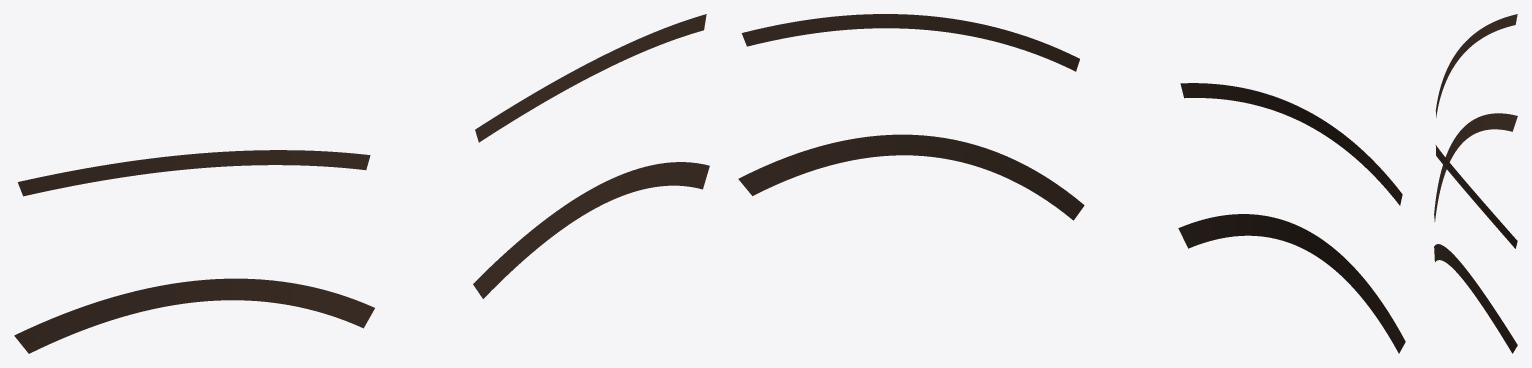
3 views of the same model, side by side, from view 1: azimuth 30°, elevation 25°; view 2: azimuth 150°, elevation 25°; view 3: azimuth 270°, elevation 25° (orthographic). The views are drawn at different scales.
Parts seen in each view (by area): view 1: Eye_Closed_-1, Eyebrow_-1, Eye_Closed_1, Eyebrow_1; view 2: Eye_Closed_1, Eyebrow_1, Eye_Closed_-1, Eyebrow_-1; view 3: Eye_Closed_1, Eye_Closed_-1, Eyebrow_-1, Eyebrow_1.
Part boxes in pixels (box(x1,y1,x2,y2)): Eye_Closed_-1: box(14, 278, 374, 353); Eyebrow_-1: box(17, 150, 370, 196); Eye_Closed_1: box(473, 162, 709, 298); Eyebrow_1: box(475, 14, 706, 142); Eye_Closed_1: box(738, 134, 1084, 220); Eyebrow_1: box(741, 14, 1079, 71); Eye_Closed_-1: box(1178, 214, 1405, 353); Eyebrow_-1: box(1180, 83, 1402, 205); Eye_Closed_1: box(1434, 244, 1517, 353); Eye_Closed_-1: box(1434, 113, 1517, 221); Eyebrow_-1: box(1435, 14, 1517, 117); Eyebrow_1: box(1435, 145, 1517, 248).
Size of the model in its own units: 0.3719 by 0.0994 by 0.0574.
